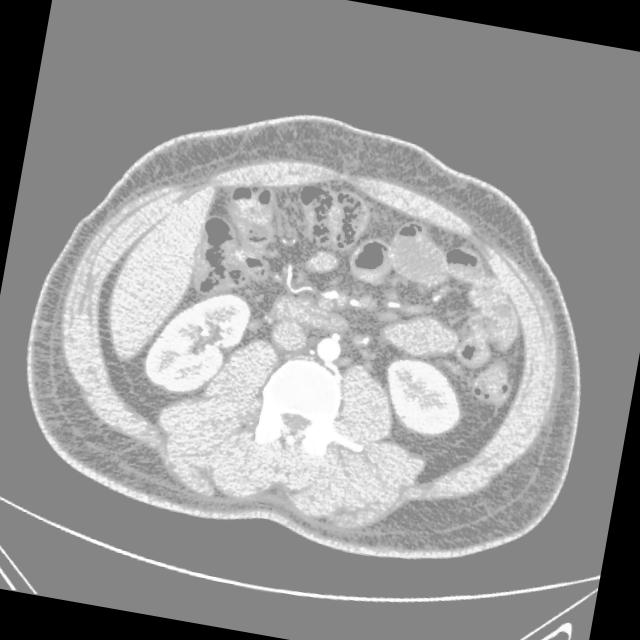NORMAL: (0, 93, 608, 568)
